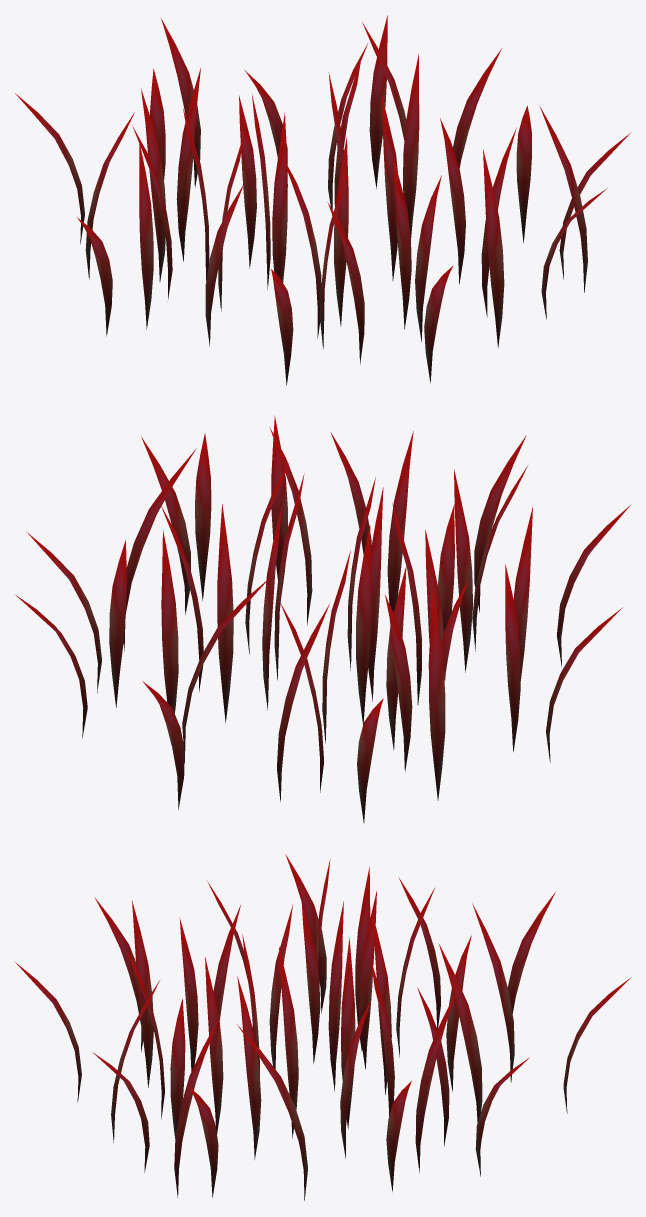
Rendered from grass.fbx.
The picture shows the model from 3 angles, top to bottom: view 1: azimuth 30°, elevation 25°; view 2: azimuth 150°, elevation 25°; view 3: azimuth 270°, elevation 25°; orthographic projection. The views are drawn at different scales.
Parts seen in each view (by area): view 1: GRass; view 2: GRass; view 3: GRass.
Boxes of the visible parts, bbox=[...] form: GRass: bbox=[15, 15, 631, 385]; GRass: bbox=[14, 415, 630, 822]; GRass: bbox=[14, 854, 631, 1200].
Bounding box in the file's own units: 302 × 121 × 339.
